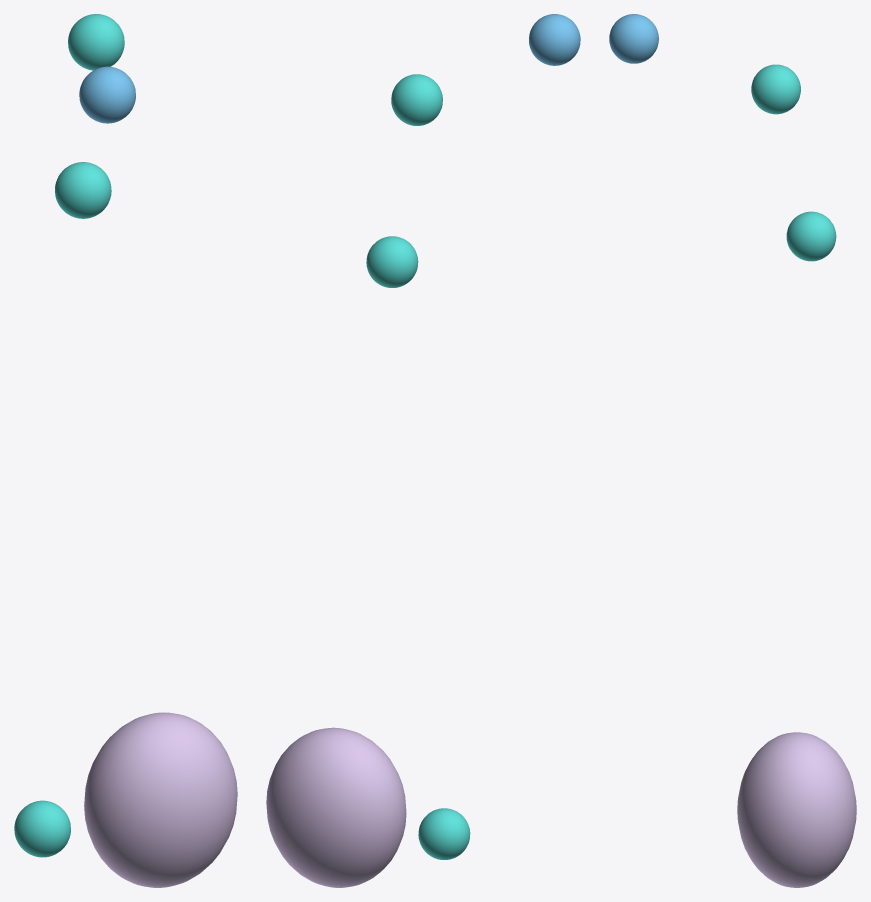
File: eus-b-route-locators.glb
The picture shows the model from 3 angles, left to right: view 1: azimuth 30°, elevation 25°; view 2: azimuth 150°, elevation 25°; view 3: azimuth 270°, elevation 25°; orthographic projection. The views are drawn at different scales.
Visible parts, largest first — view 1: node_station_8_authored, esophageal_window_7, airway_window_4L, esophageal_window_8, esophageal_window_4L; view 2: node_station_8_authored, esophageal_window_7, airway_window_4L, esophageal_window_8, esophageal_window_4L; view 3: node_station_8_authored, esophageal_window_7, esophageal_window_4L, airway_window_4L.
Part boxes in pixels (x1=…): node_station_8_authored: x1=84, y1=712, x2=237, y2=887; esophageal_window_7: x1=55, y1=162, x2=111, y2=218; airway_window_4L: x1=79, y1=66, x2=135, y2=123; esophageal_window_8: x1=14, y1=800, x2=70, y2=857; esophageal_window_4L: x1=68, y1=14, x2=124, y2=70; node_station_8_authored: x1=266, y1=727, x2=406, y2=887; esophageal_window_7: x1=366, y1=236, x2=418, y2=287; airway_window_4L: x1=529, y1=14, x2=580, y2=65; esophageal_window_8: x1=418, y1=808, x2=470, y2=859; esophageal_window_4L: x1=391, y1=74, x2=442, y2=125; node_station_8_authored: x1=737, y1=732, x2=856, y2=887; esophageal_window_7: x1=786, y1=211, x2=836, y2=261; esophageal_window_4L: x1=751, y1=64, x2=800, y2=114; airway_window_4L: x1=609, y1=14, x2=658, y2=63.
Bounding box in the file's own units: 0.0243 × 0.0889 × 0.0248.
